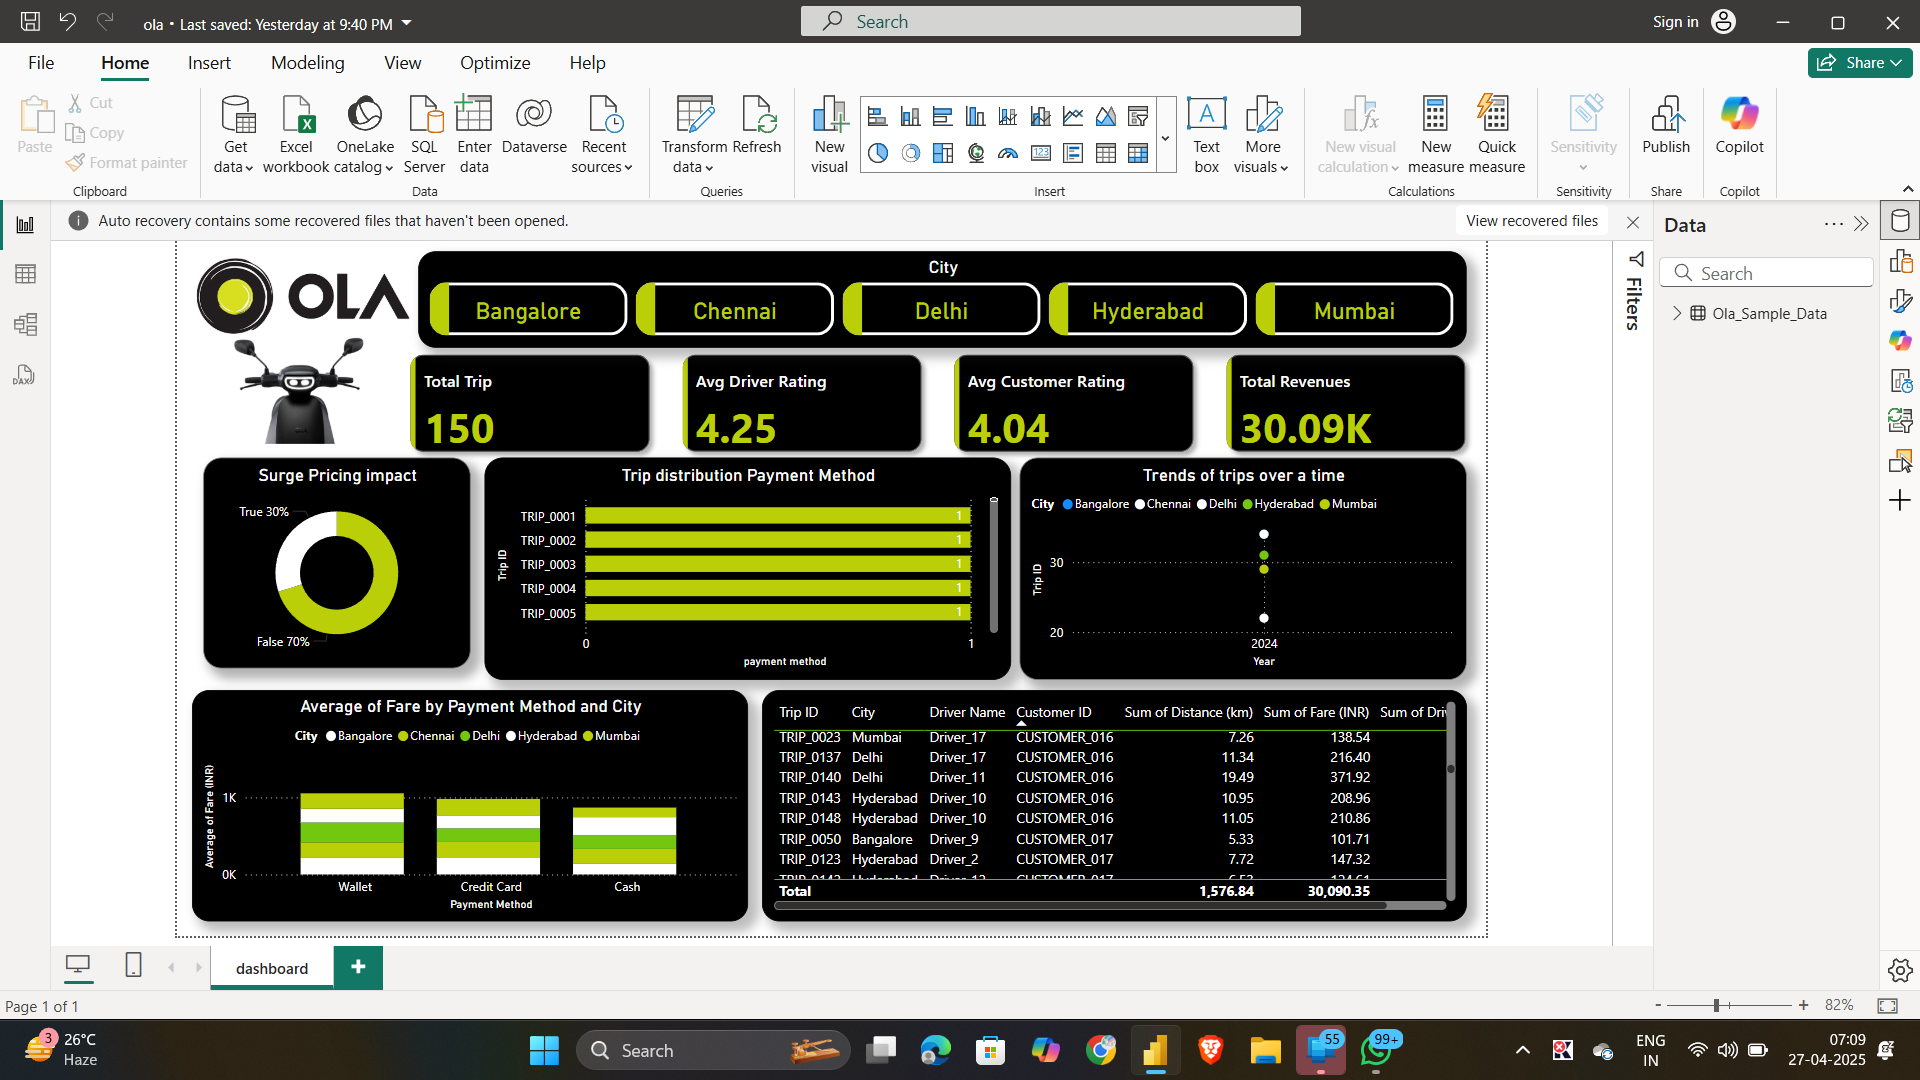

The dashboard page shown, as its layout file describes it:
{"tool":"powerbi","page":{"name":"dashboard","canvas":[1280,720],"ordinal":0},"visuals":[{"type":"cardVisual","fields":{"Data":["Ola_Sample_Data.Trip ID","Ola_Sample_Data.Driver Rating","Ola_Sample_Data.Customer Rating","Ola_Sample_Data.Fare (INR)"]},"box":[211.6,134.5,1068.8,129.6],"z":0},{"type":"donutChart","title":" Surge Pricing impact","fields":{"Category":["Ola_Sample_Data.Surge Pricing Applied"],"Y":["Ola_Sample_Data.Trip ID"]},"box":[25.7,251.9,261.7,206.7],"z":1000},{"type":"clusteredBarChart","title":"Trip distribution Payment Method ","fields":{"Category":["Ola_Sample_Data.Trip ID"],"Y":["Ola_Sample_Data.Payment Method"]},"box":[300.8,251.9,514.8,217.7],"z":2000},{"type":"areaChart","title":"Trends of trips over a time","fields":{"Category":["Ola_Sample_Data.Date.Variation.Date Hierarchy.Year","Ola_Sample_Data.Date.Variation.Date Hierarchy.Quarter","Ola_Sample_Data.Date.Variation.Date Hierarchy.Month","Ola_Sample_Data.Date.Variation.Date Hierarchy.Day"],"Y":["Ola_Sample_Data.Trip ID"],"Series":["Ola_Sample_Data.City"]},"box":[824.2,251.9,437.8,217.7],"z":3000},{"type":"tableEx","fields":{"Values":["Ola_Sample_Data.Trip ID","Ola_Sample_Data.City","Ola_Sample_Data.Driver Name","Ola_Sample_Data.Customer ID","Ola_Sample_Data.Distance (km)","Ola_Sample_Data.Fare (INR)","Ola_Sample_Data.Driver Rating"]},"box":[572.3,479.4,689.7,226.2],"z":4000},{"type":"columnChart","title":"Average of Fare  by Payment Method and City","fields":{"Y":["Ola_Sample_Data.Fare (INR)"],"Category":["Ola_Sample_Data.Payment Method"],"Series":["Ola_Sample_Data.City"]},"box":[14.7,479.4,544.2,226.2],"z":5000},{"type":"advancedSlicerVisual","fields":{"Values":["Ola_Sample_Data.City"]},"box":[236,50.1,1026,94.2],"z":6000},{"type":"image","box":[14.7,116.2,210.3,127.2],"z":6002},{"type":"image","box":[14.7,22,217.7,144.3],"z":6003}]}

Visuals, with their boxes on the page's 1280x720 design canvas (x1, y1, x2, y2). These are canvas units, not pixel positions in the 1920x1080 screenshot, which may show the page scaled, cropped or inside an application window:
cardVisual - Ola_Sample_Data.Trip ID x Ola_Sample_Data.Driver Rating: left=212, top=134, right=1280, bottom=264
" Surge Pricing impact" donutChart: left=26, top=252, right=287, bottom=459
"Trip distribution Payment Method " clusteredBarChart: left=301, top=252, right=816, bottom=470
"Trends of trips over a time" areaChart: left=824, top=252, right=1262, bottom=470
tableEx - Ola_Sample_Data.Trip ID x Ola_Sample_Data.City: left=572, top=479, right=1262, bottom=706
"Average of Fare  by Payment Method and City" columnChart: left=15, top=479, right=559, bottom=706
advancedSlicerVisual - Ola_Sample_Data.City: left=236, top=50, right=1262, bottom=144
image: left=15, top=116, right=225, bottom=243
image: left=15, top=22, right=232, bottom=166
